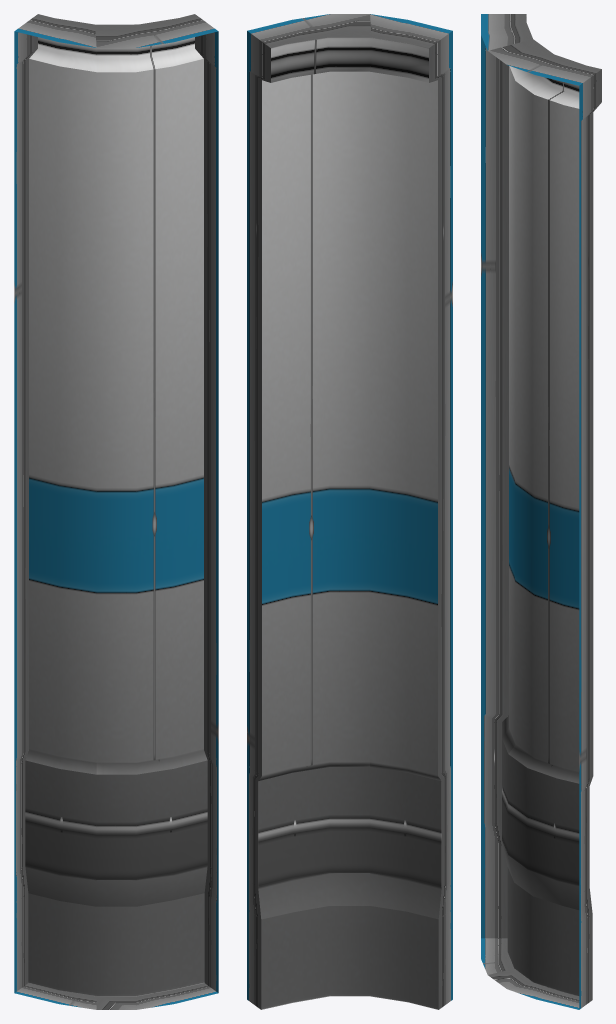
Rendered from OBT_MIN_BB.fbx.
3 renders of one model, left to right at view 1: azimuth 30°, elevation 25°; view 2: azimuth 210°, elevation 25°; view 3: azimuth 330°, elevation 25°, orthographic. The views are drawn at different scales.
Parts seen in each view (by area): view 1: OBT_MIN_BB; view 2: OBT_MIN_BB; view 3: OBT_MIN_BB.
Boxes of the visible parts, x1,y1,x2,y2 form: OBT_MIN_BB: (14, 14, 218, 1009); OBT_MIN_BB: (247, 14, 452, 1009); OBT_MIN_BB: (481, 14, 601, 1009).
Bounding box in the file's own units: 0.75 × 4.5 × 0.5335.
